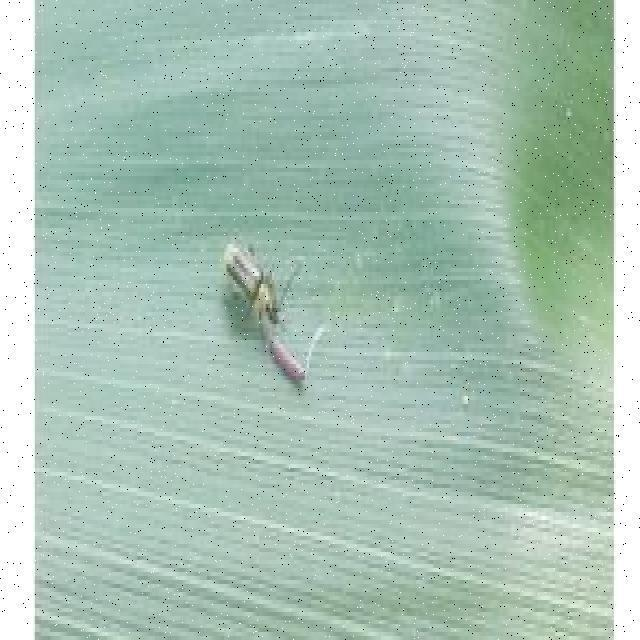trips: (212, 227, 302, 330)
